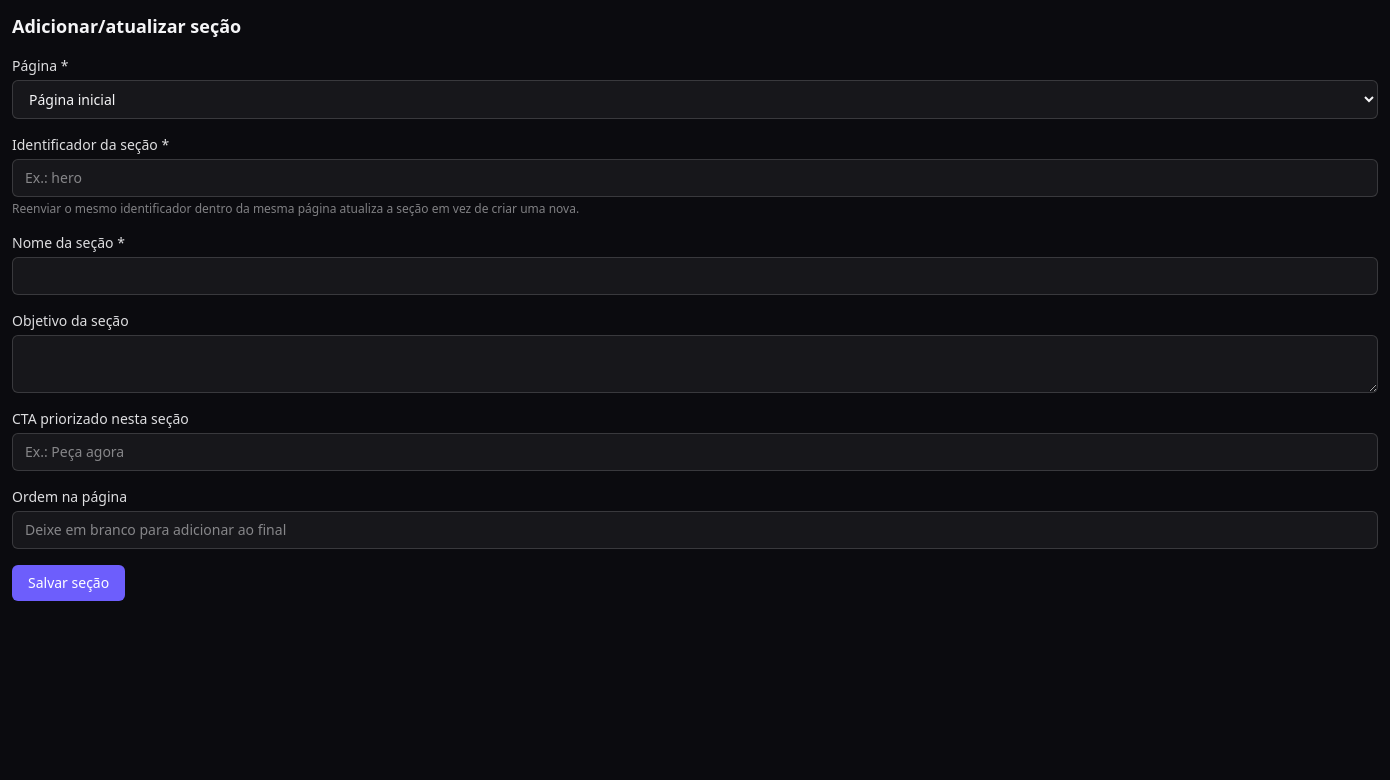
it: SitePageSectionForm › shows validation errors returned by the action
Click the button "Salvar seção".
click(69, 583)  # box [12,565,125,601]
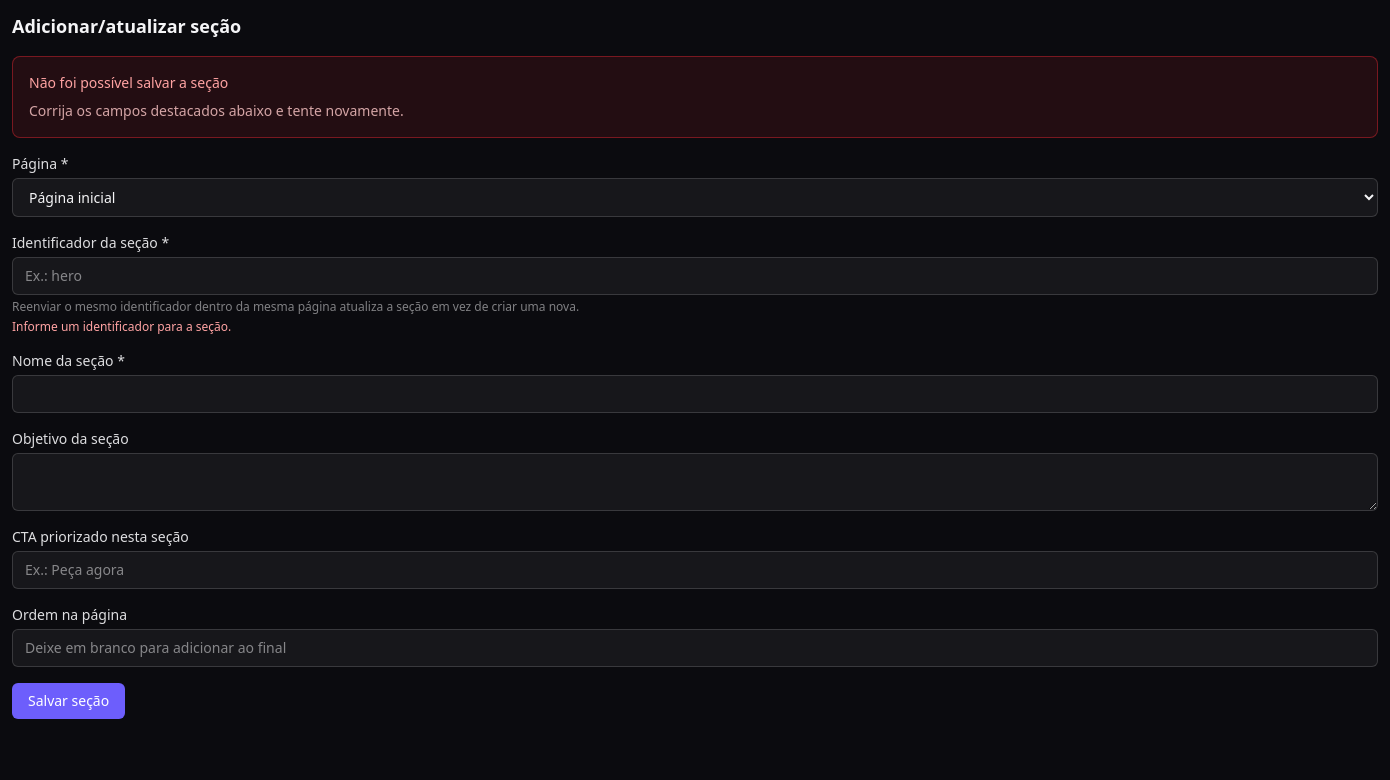
Result: the message shows "Não foi possível salvar a seção" at [29,73,228,92]
